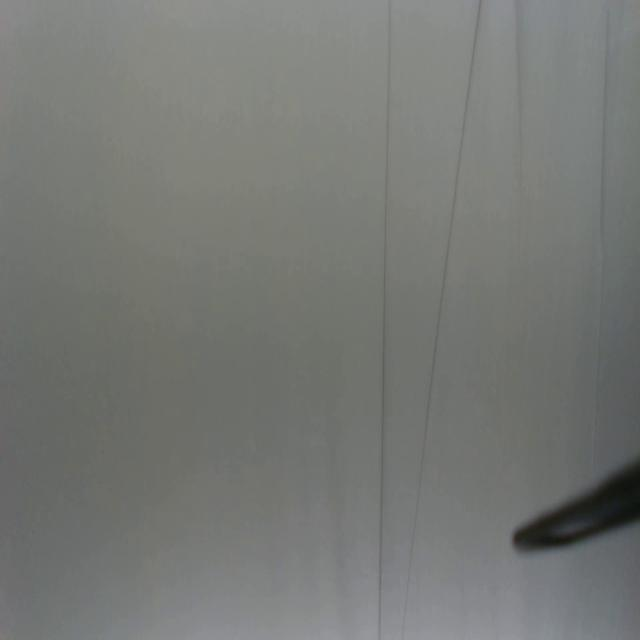crease: (400, 0, 483, 636), (375, 0, 395, 640), (598, 5, 612, 258)
